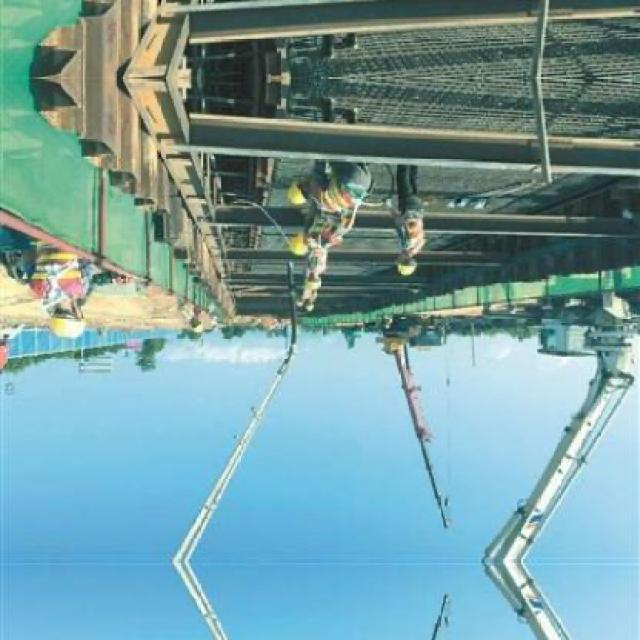con casco: (0, 288, 132, 350), (241, 163, 308, 214), (282, 213, 318, 257), (397, 249, 428, 293)
